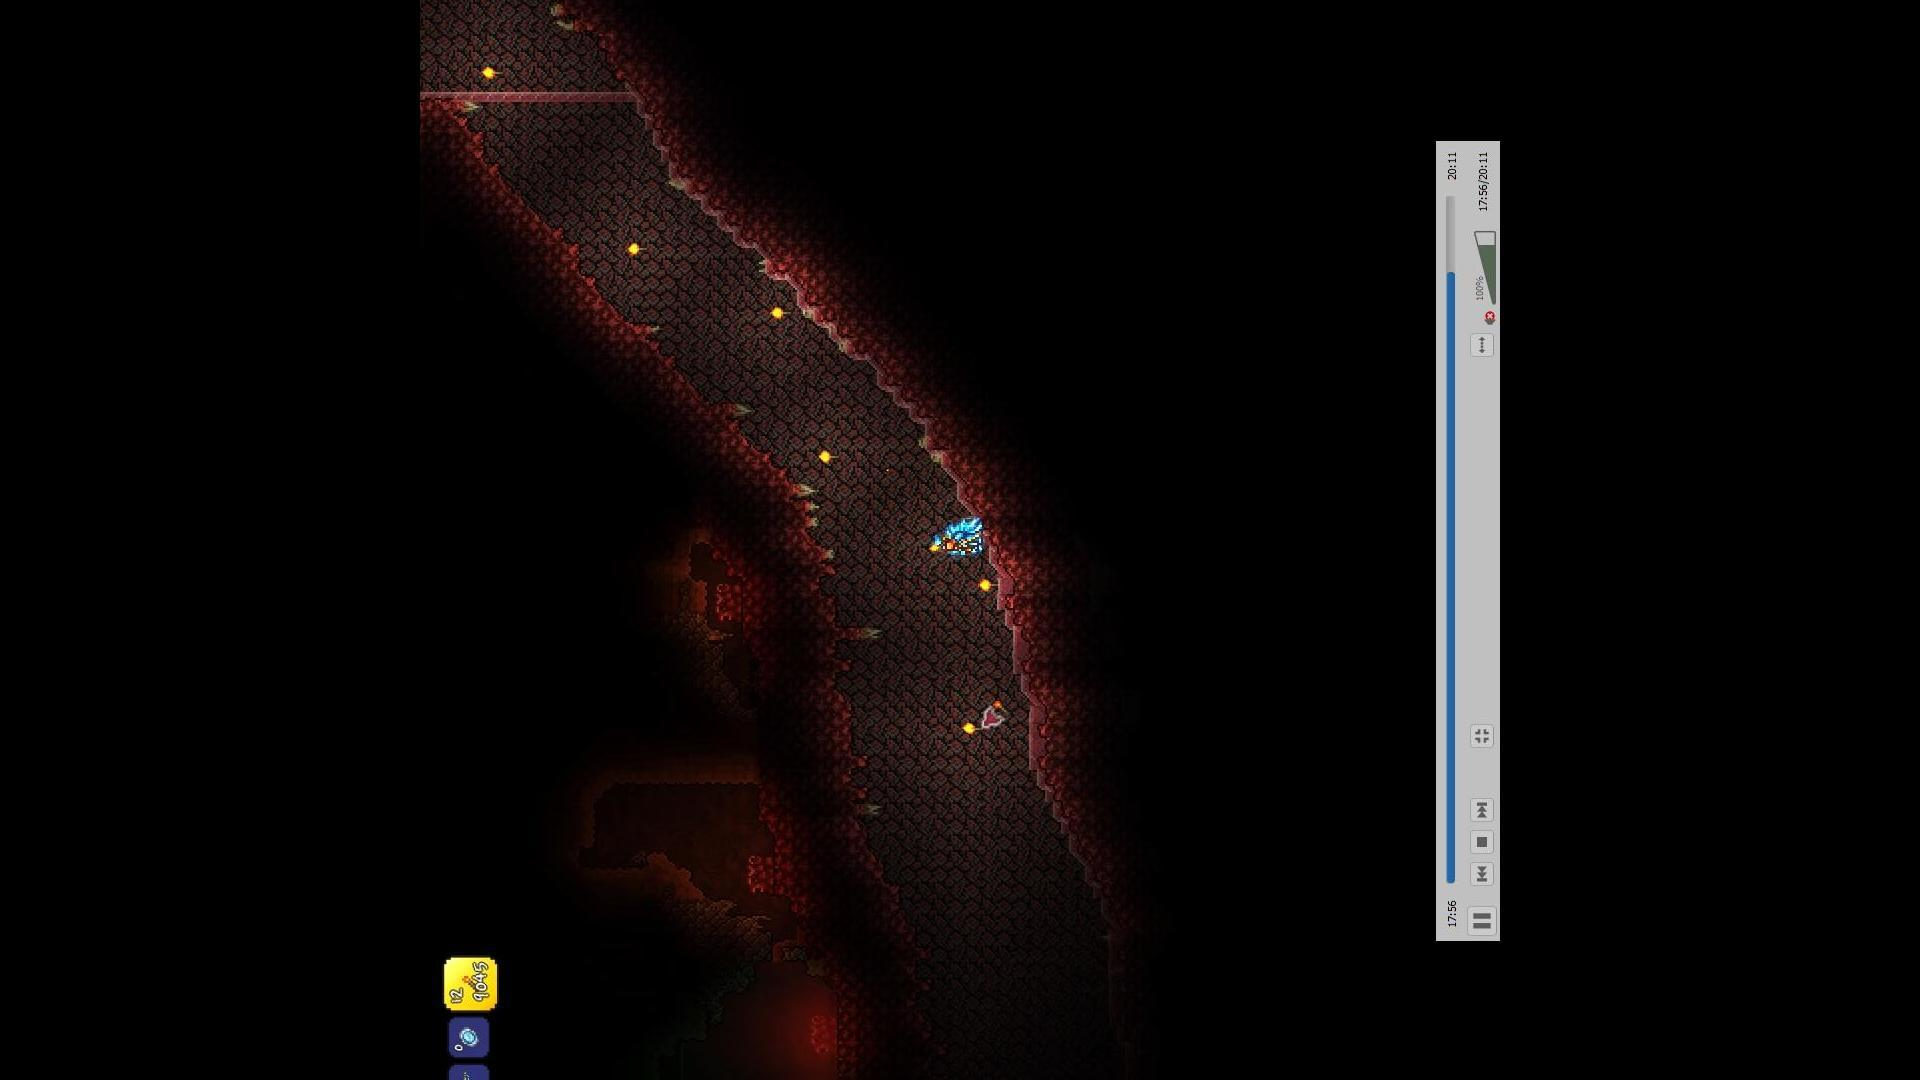mirror: (456, 1023, 484, 1051)
